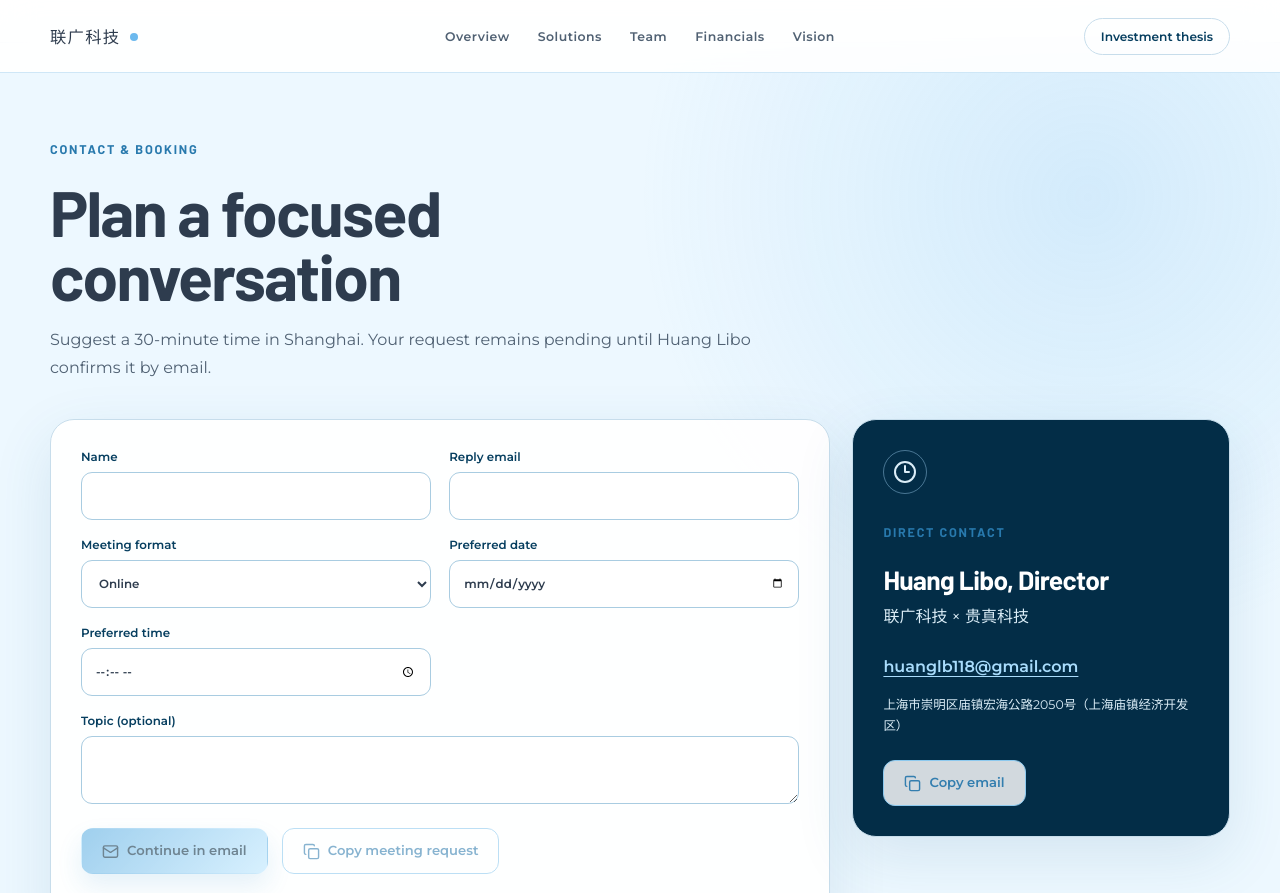
Test: site interactions › blocks a past date before creating an email request
The image size is (1280, 893).
(page scrolled)
Step 1. Type "Ada Lovelace" into the field labelled "Name" → {"x": 256, "y": 496}, box [81, 472, 431, 520]
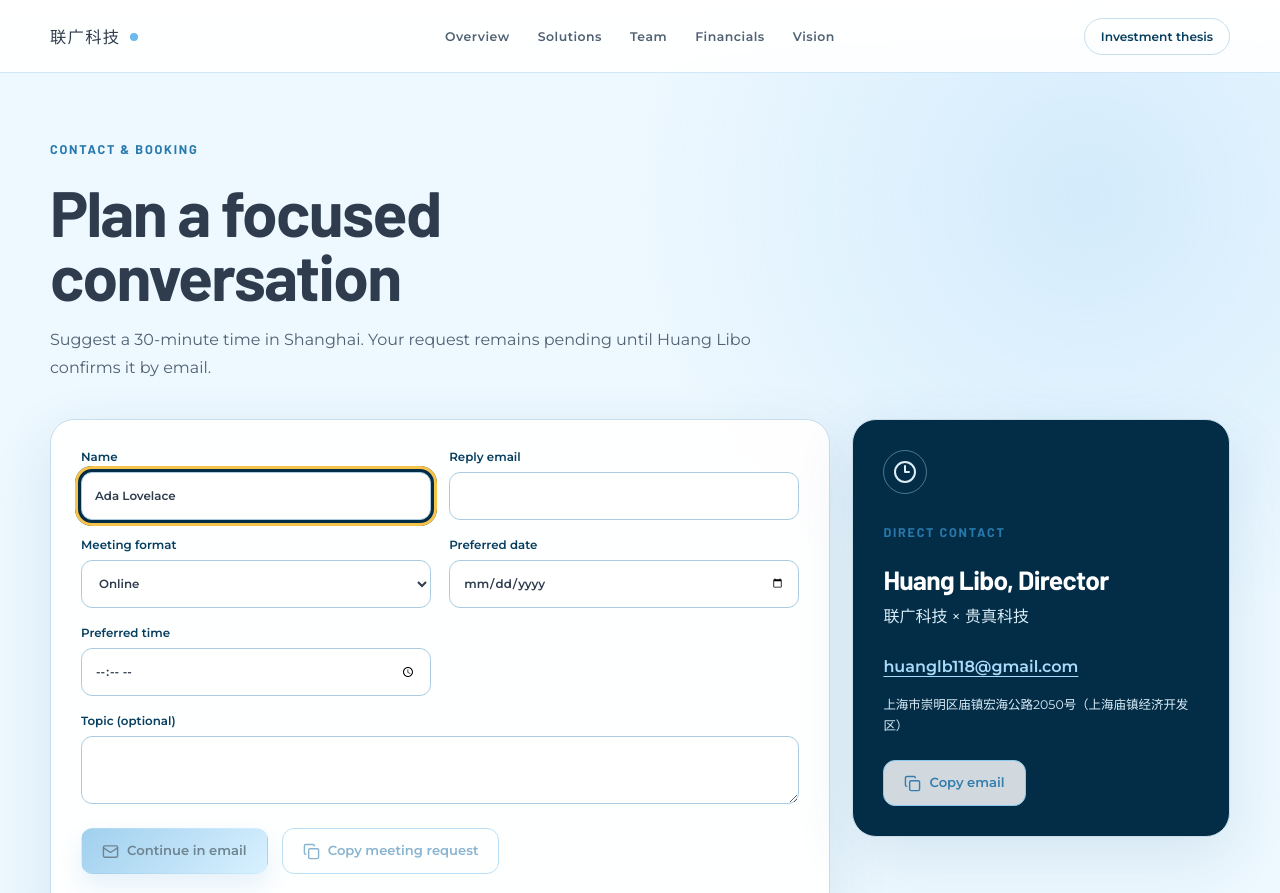
Step 2. Type "ada@example.com" into the field labelled "Reply email" → {"x": 624, "y": 496}, box [449, 472, 799, 520]
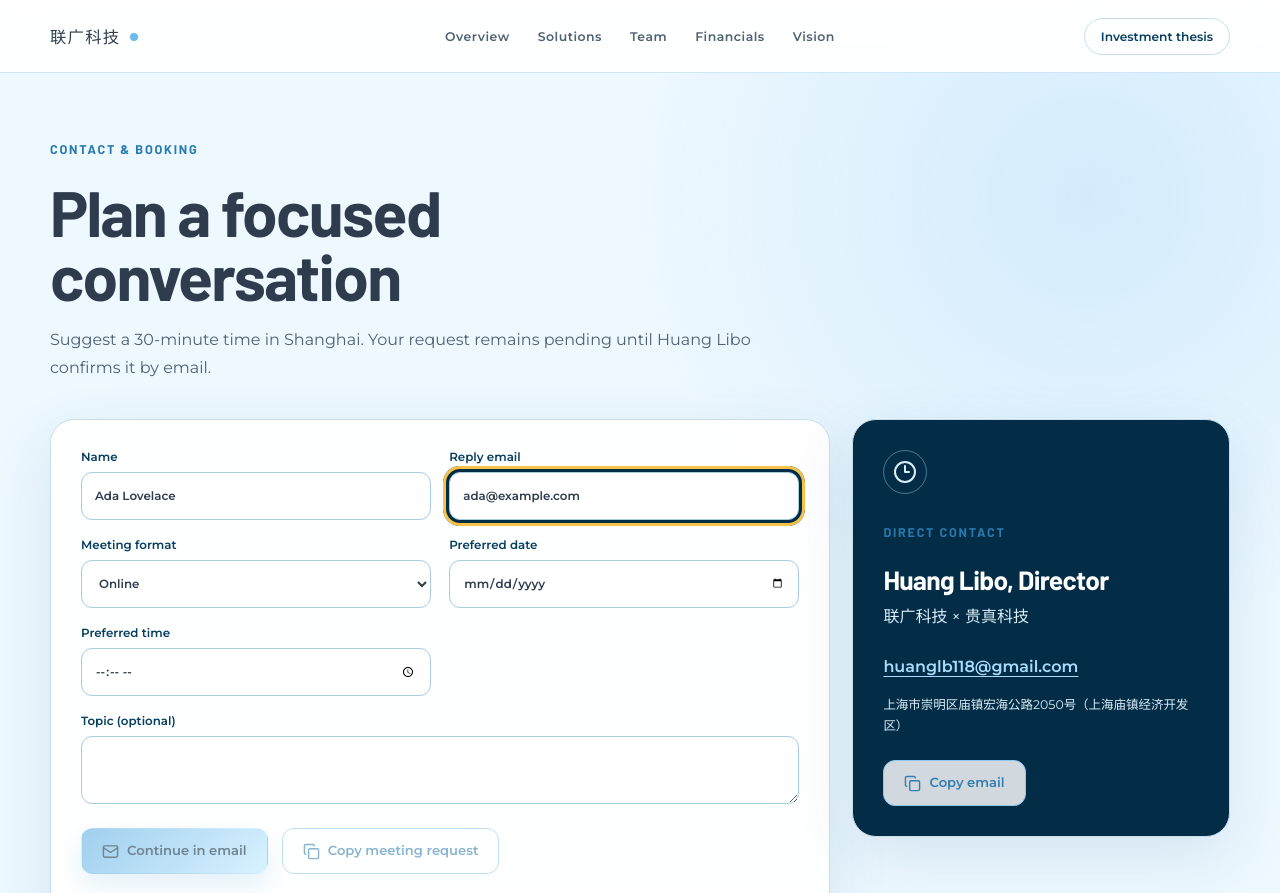
Step 3. Type "2000-01-01" into the date field labelled "Preferred date" → {"x": 624, "y": 584}, box [449, 560, 799, 608]
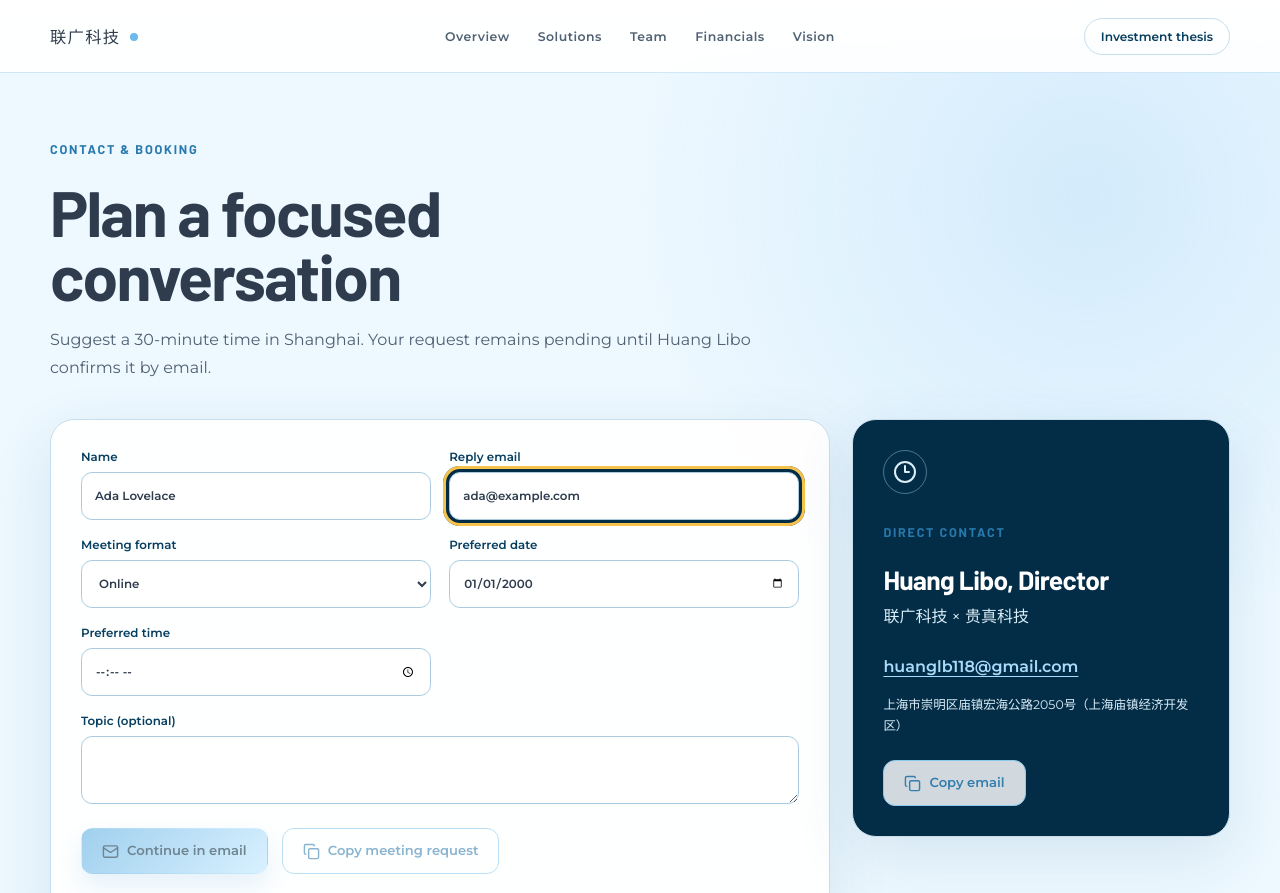
Step 4. Type "14:30" into the time field labelled "Preferred time" → {"x": 256, "y": 672}, box [81, 648, 431, 696]
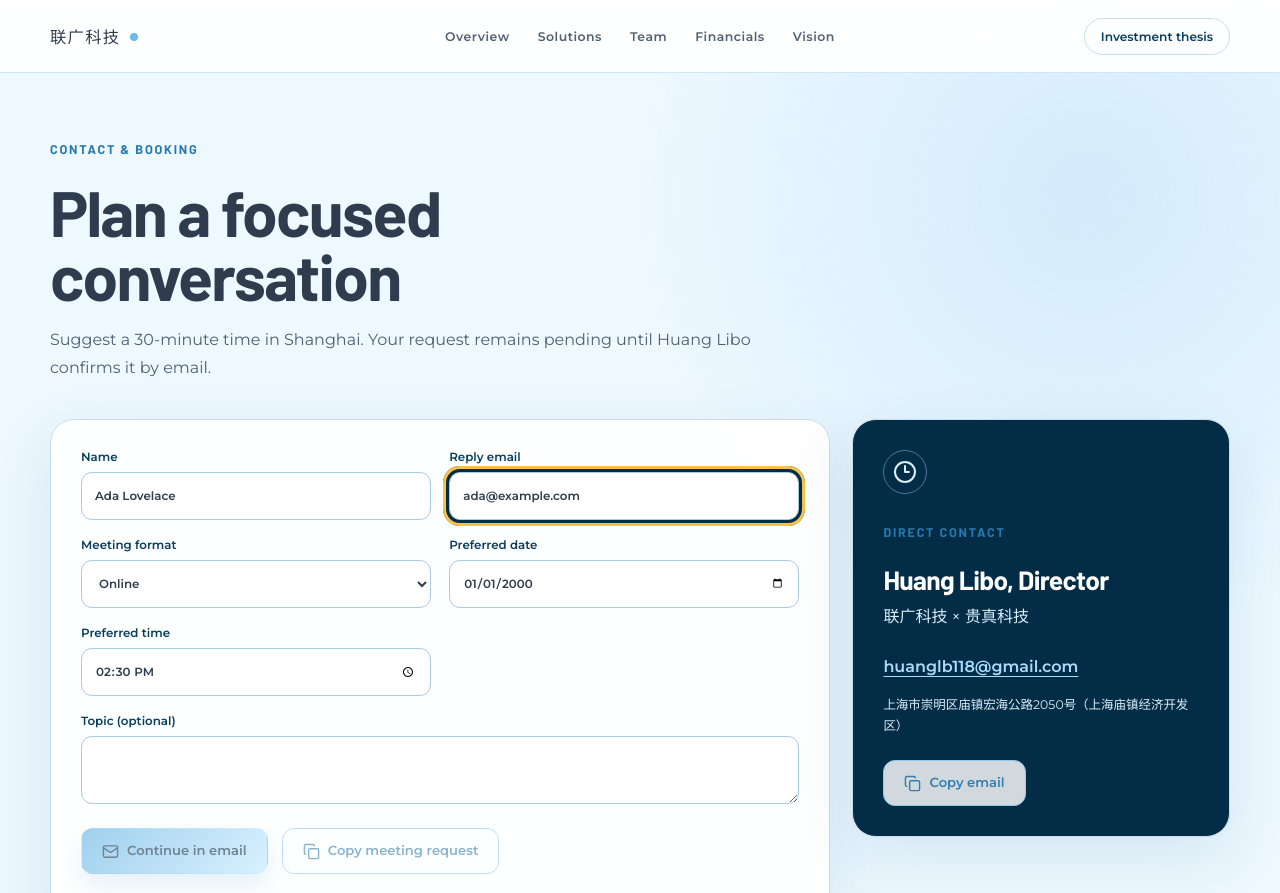
Step 5. Click the link "Continue in email" → {"x": 174, "y": 851}, box [81, 828, 268, 874]
(page scrolled)
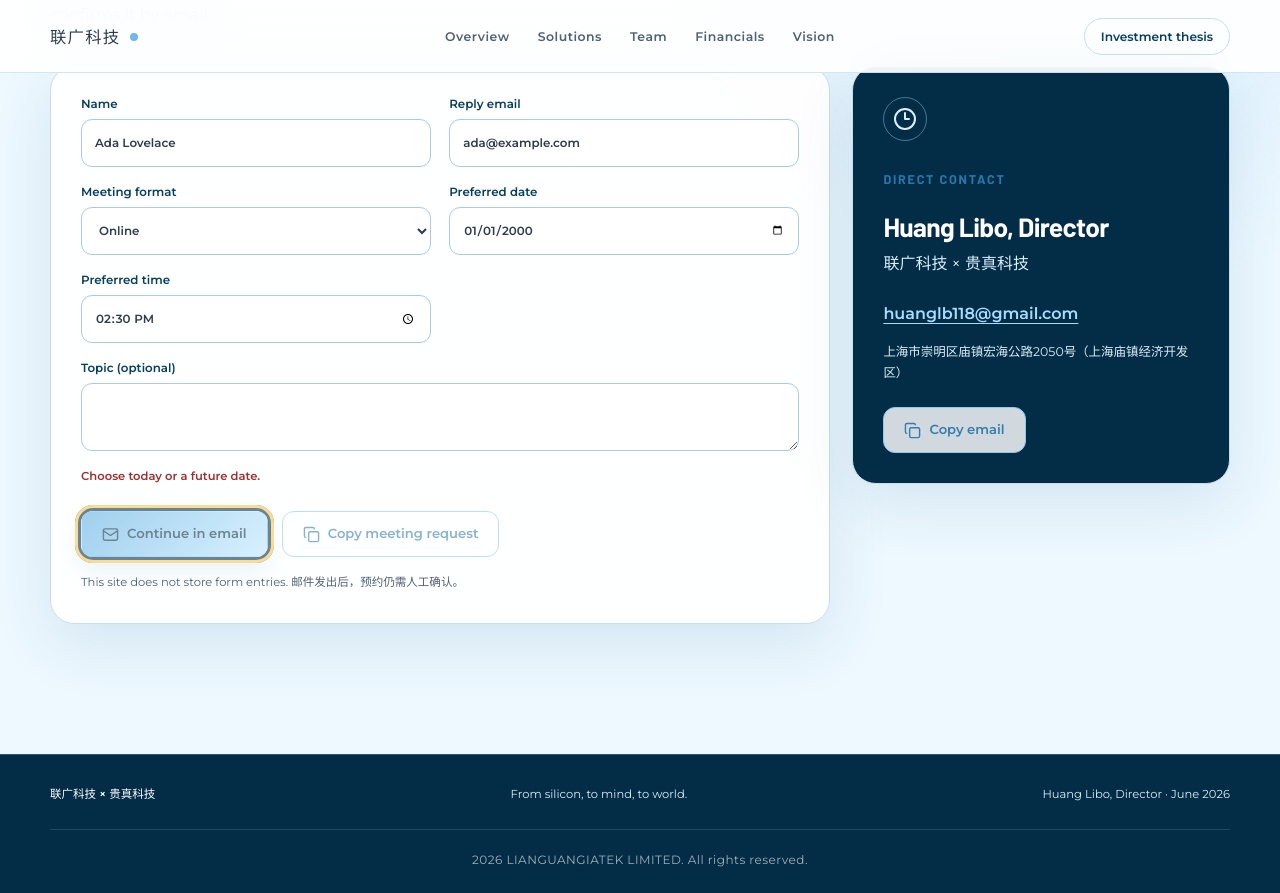
Check: the message "Choose today or a future date." is shown, box [81, 469, 260, 483]
